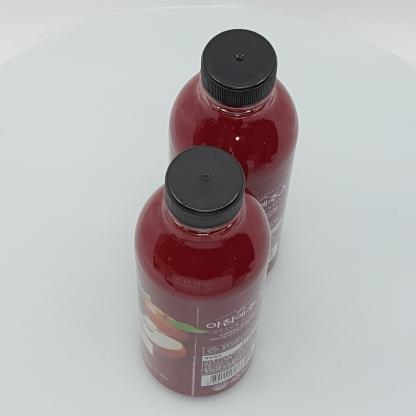--------------ABC--750ML: (134, 145, 271, 396), (169, 28, 298, 276)
